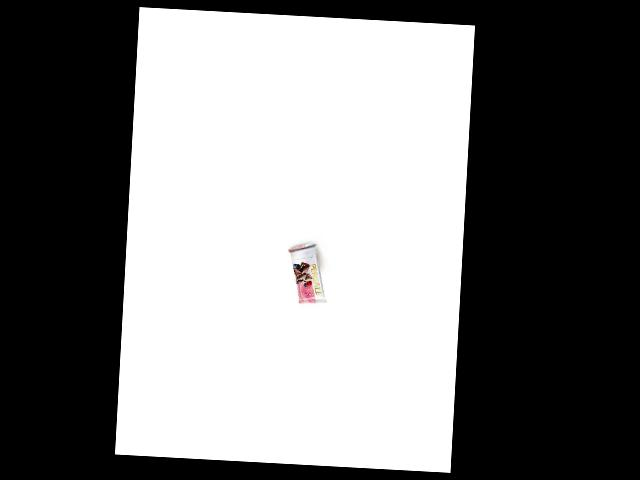chocolate: (283, 244, 329, 304)
